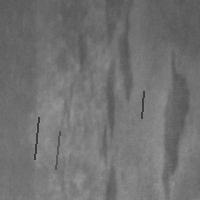inclusion: (98, 1, 135, 164), (159, 47, 191, 199), (71, 29, 92, 86), (102, 155, 121, 199), (32, 115, 40, 161), (53, 129, 61, 171), (139, 89, 145, 120)
